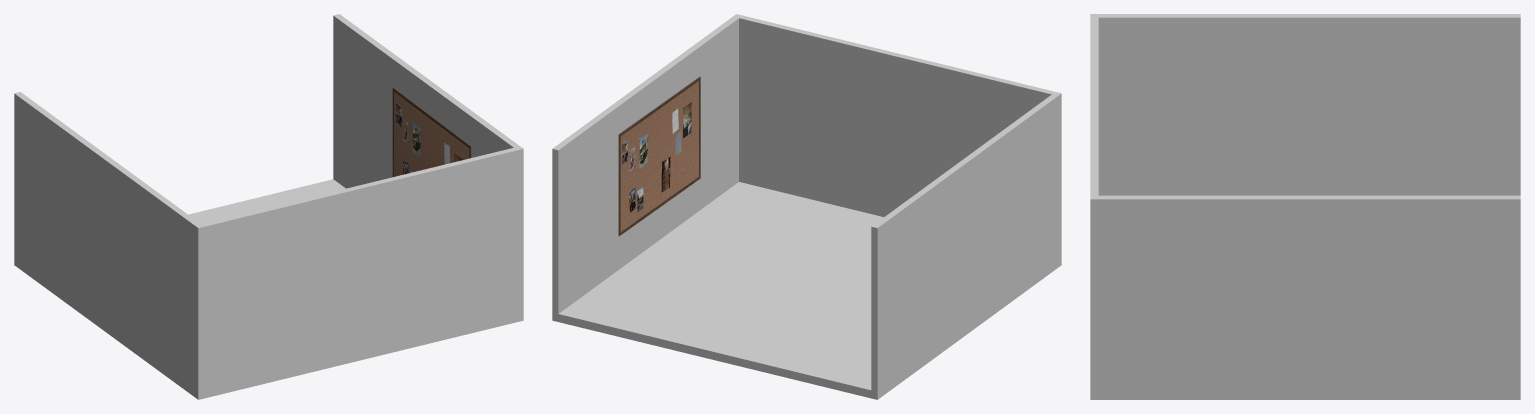
File: Garage1.glb
3 views of the same model, side by side, from view 1: azimuth 30°, elevation 25°; view 2: azimuth 150°, elevation 25°; view 3: azimuth 270°, elevation 25° (orthographic). The views are drawn at different scales.
Parts seen in each view (by area): view 1: Plane, CorkBoard; view 2: Plane, CorkBoard; view 3: Plane.
Part boxes in pixels (x1,y1,x2,y2): Plane: [14, 14, 523, 399]; CorkBoard: [392, 88, 471, 176]; Plane: [552, 14, 1061, 399]; CorkBoard: [618, 77, 700, 236]; Plane: [1090, 14, 1520, 399].
Size of the model in its own units: 10.4 by 5.25 by 10.2.
1 material, 1 textured.
